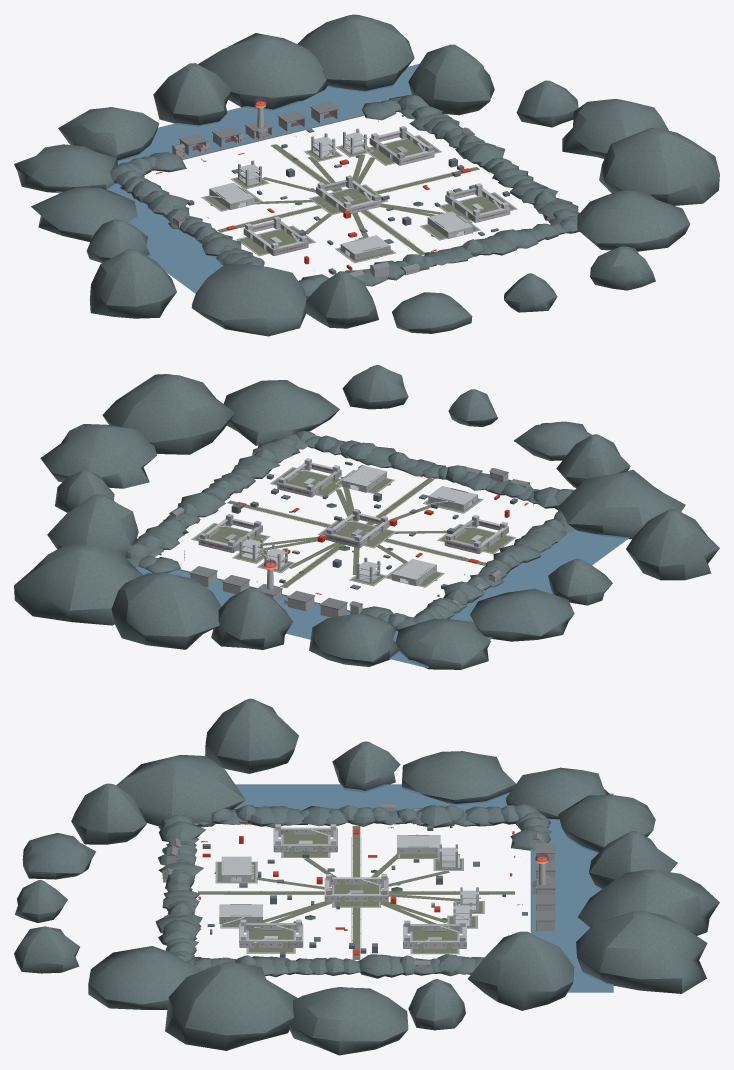
The model's file is misaki-lod1.glb.
3 views of the same model, one above another, from view 1: azimuth 30°, elevation 25°; view 2: azimuth 150°, elevation 25°; view 3: azimuth 270°, elevation 25° (orthographic). The views are drawn at different scales.
Visible parts, largest first — view 1: HB_misaki_LOD1_terrain, HB_misaki_LOD1_water, HB_misaki_LOD1_wall, HB_misaki_LOD1_road, HB_misaki_LOD1_wall_alt, HB_misaki_LOD1_trim, HB_misaki_LOD1_obstacle, HB_misaki_LOD1_glass; view 2: HB_misaki_LOD1_terrain, HB_misaki_LOD1_wall, HB_misaki_LOD1_road, HB_misaki_LOD1_water, HB_misaki_LOD1_wall_alt, HB_misaki_LOD1_trim, HB_misaki_LOD1_obstacle, HB_misaki_LOD1_glass; view 3: HB_misaki_LOD1_terrain, HB_misaki_LOD1_water, HB_misaki_LOD1_road, HB_misaki_LOD1_wall, HB_misaki_LOD1_wall_alt, HB_misaki_LOD1_trim, HB_misaki_LOD1_obstacle.
Part boxes in pixels (<box>): HB_misaki_LOD1_terrain: <box>14,14,719,336</box>; HB_misaki_LOD1_water: <box>56,64,419,293</box>; HB_misaki_LOD1_wall: <box>203,108,510,259</box>; HB_misaki_LOD1_road: <box>201,136,517,263</box>; HB_misaki_LOD1_wall_alt: <box>161,108,516,277</box>; HB_misaki_LOD1_trim: <box>144,97,509,276</box>; HB_misaki_LOD1_obstacle: <box>187,128,509,274</box>; HB_misaki_LOD1_glass: <box>164,97,506,256</box>; HB_misaki_LOD1_terrain: <box>14,365,719,669</box>; HB_misaki_LOD1_wall: <box>198,458,508,589</box>; HB_misaki_LOD1_road: <box>191,467,515,587</box>; HB_misaki_LOD1_water: <box>135,529,629,668</box>; HB_misaki_LOD1_wall_alt: <box>169,467,529,617</box>; HB_misaki_LOD1_trim: <box>151,466,533,611</box>; HB_misaki_LOD1_obstacle: <box>231,461,544,589</box>; HB_misaki_LOD1_glass: <box>205,465,525,589</box>; HB_misaki_LOD1_terrain: <box>14,698,719,1055</box>; HB_misaki_LOD1_water: <box>234,784,613,992</box>; HB_misaki_LOD1_road: <box>198,826,514,959</box>; HB_misaki_LOD1_wall: <box>219,824,545,948</box>; HB_misaki_LOD1_wall_alt: <box>163,807,554,969</box>; HB_misaki_LOD1_trim: <box>162,803,555,970</box>; HB_misaki_LOD1_obstacle: <box>202,820,527,957</box>.
Size of the model in its own units: 654 by 54.4 by 612.
11 materials, 8 textured.
